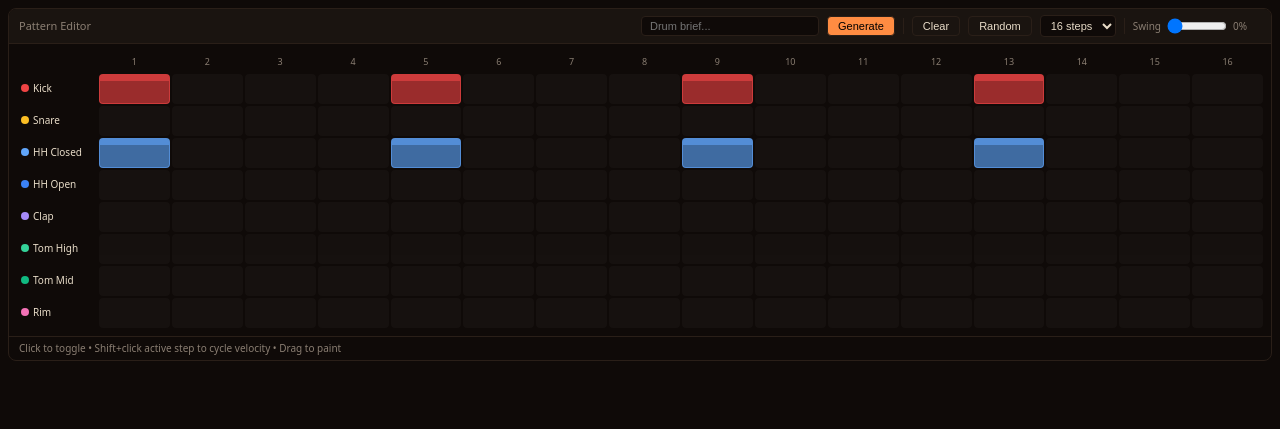
it: PatternEditor › routes generation briefs to the drum agent and surfaces QA warnings
Type "dark rolling acid drums" into the field with placeholder "Drum brief..." at [730, 26], box [641,16,819,36]
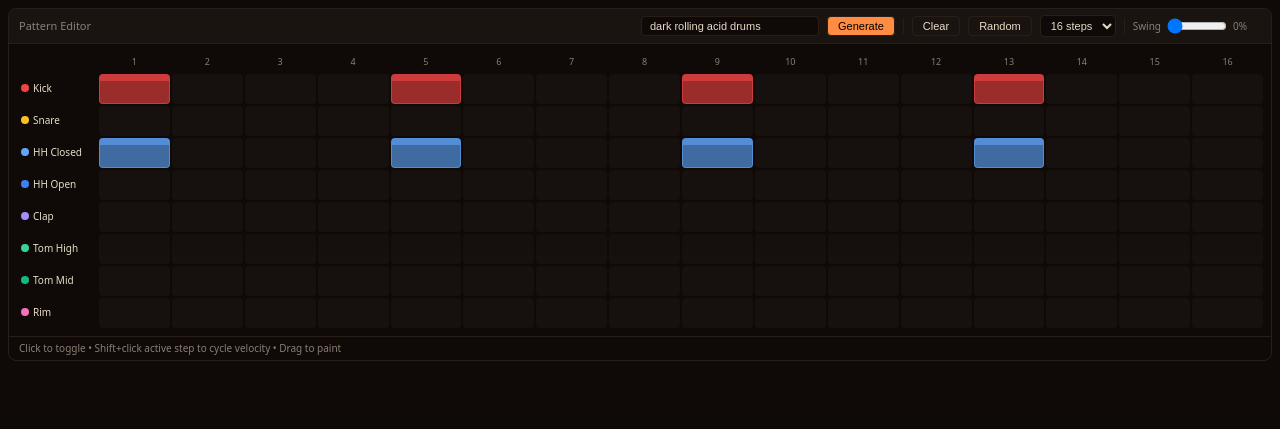
Click the button "Generate" at [861, 26], box [827,16,895,36]
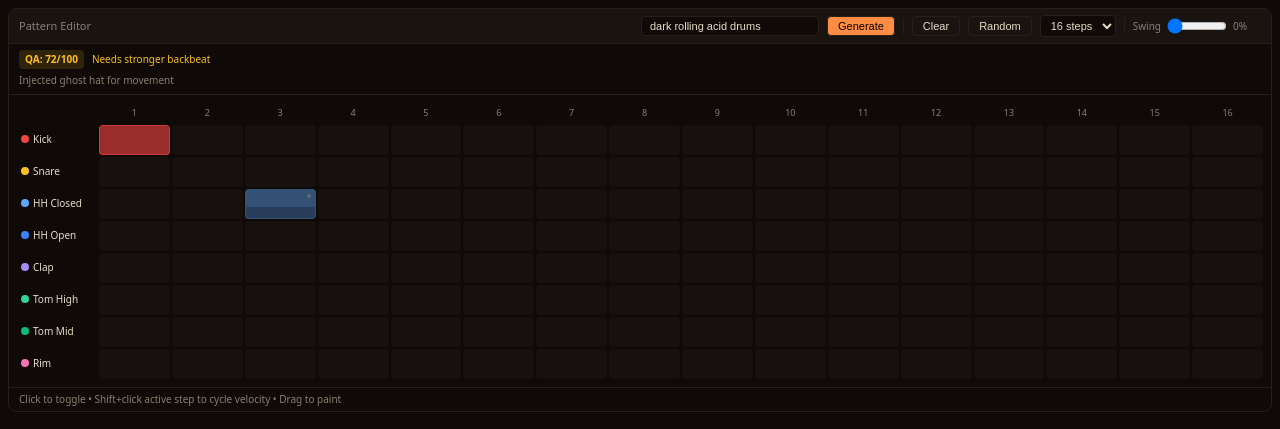
Expected: the text "QA: 72/100" is shown, [19,50,84,69]
Expected: the text "Needs stronger backbeat" is shown, [92,52,210,67]
Expected: the text "Injected ghost hat for movement" is shown, [19,73,174,87]
